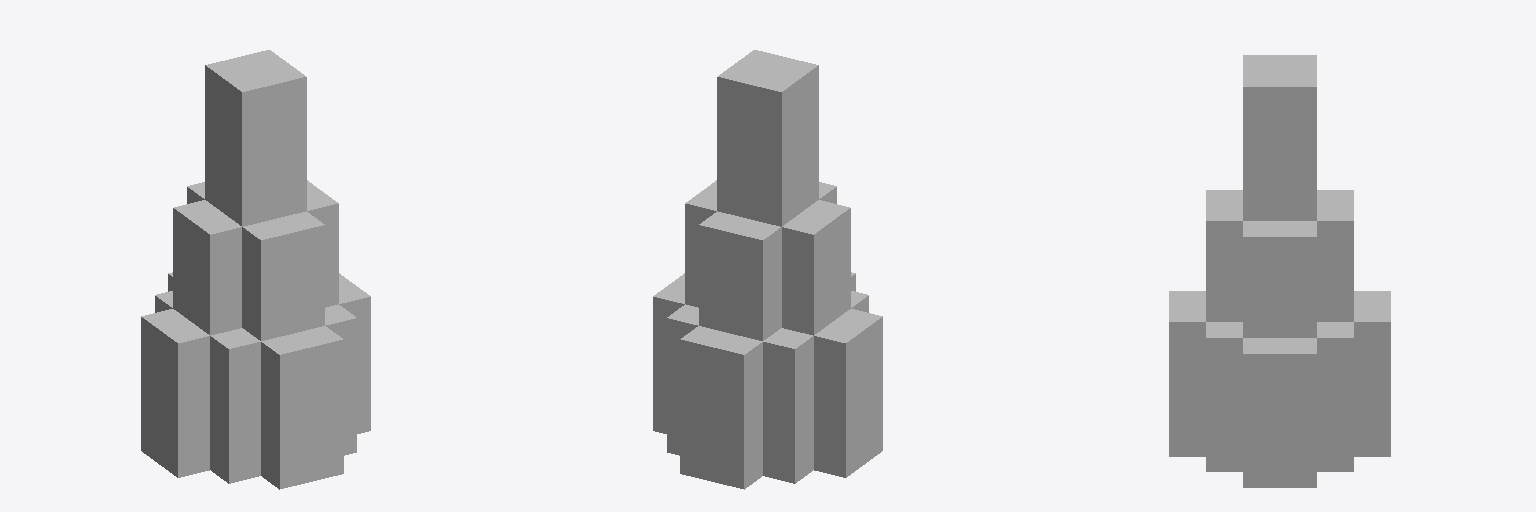
Rendered from bamboo_shoot.obj.
3 views of the same model, side by side, from view 1: azimuth 30°, elevation 25°; view 2: azimuth 150°, elevation 25°; view 3: azimuth 270°, elevation 25° (orthographic).
Parts seen in each view (by area): view 1: model.001; view 2: model.001; view 3: model.001.
Boxes of the visible parts, x1=… form: model.001: x1=141, y1=50, x2=370, y2=489; model.001: x1=653, y1=50, x2=882, y2=489; model.001: x1=1169, y1=55, x2=1390, y2=487.
Bounding box in the file's own units: 0.375 × 0.6875 × 0.375.